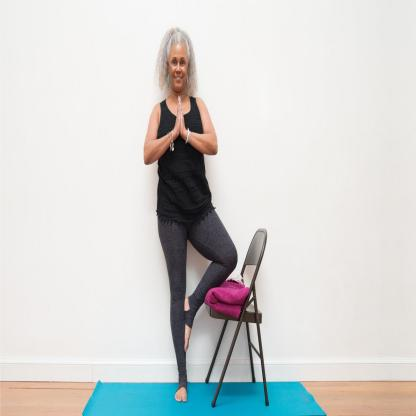tree: (136, 20, 240, 406)
